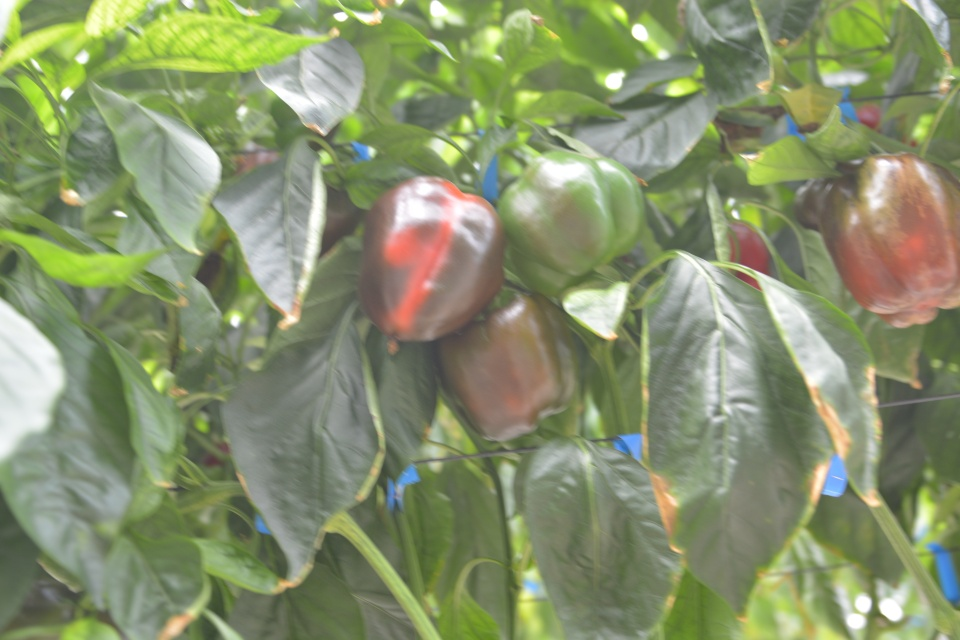fruit: (818, 151, 960, 330), (357, 173, 504, 345), (496, 146, 647, 300), (436, 283, 580, 444), (728, 220, 773, 292)
